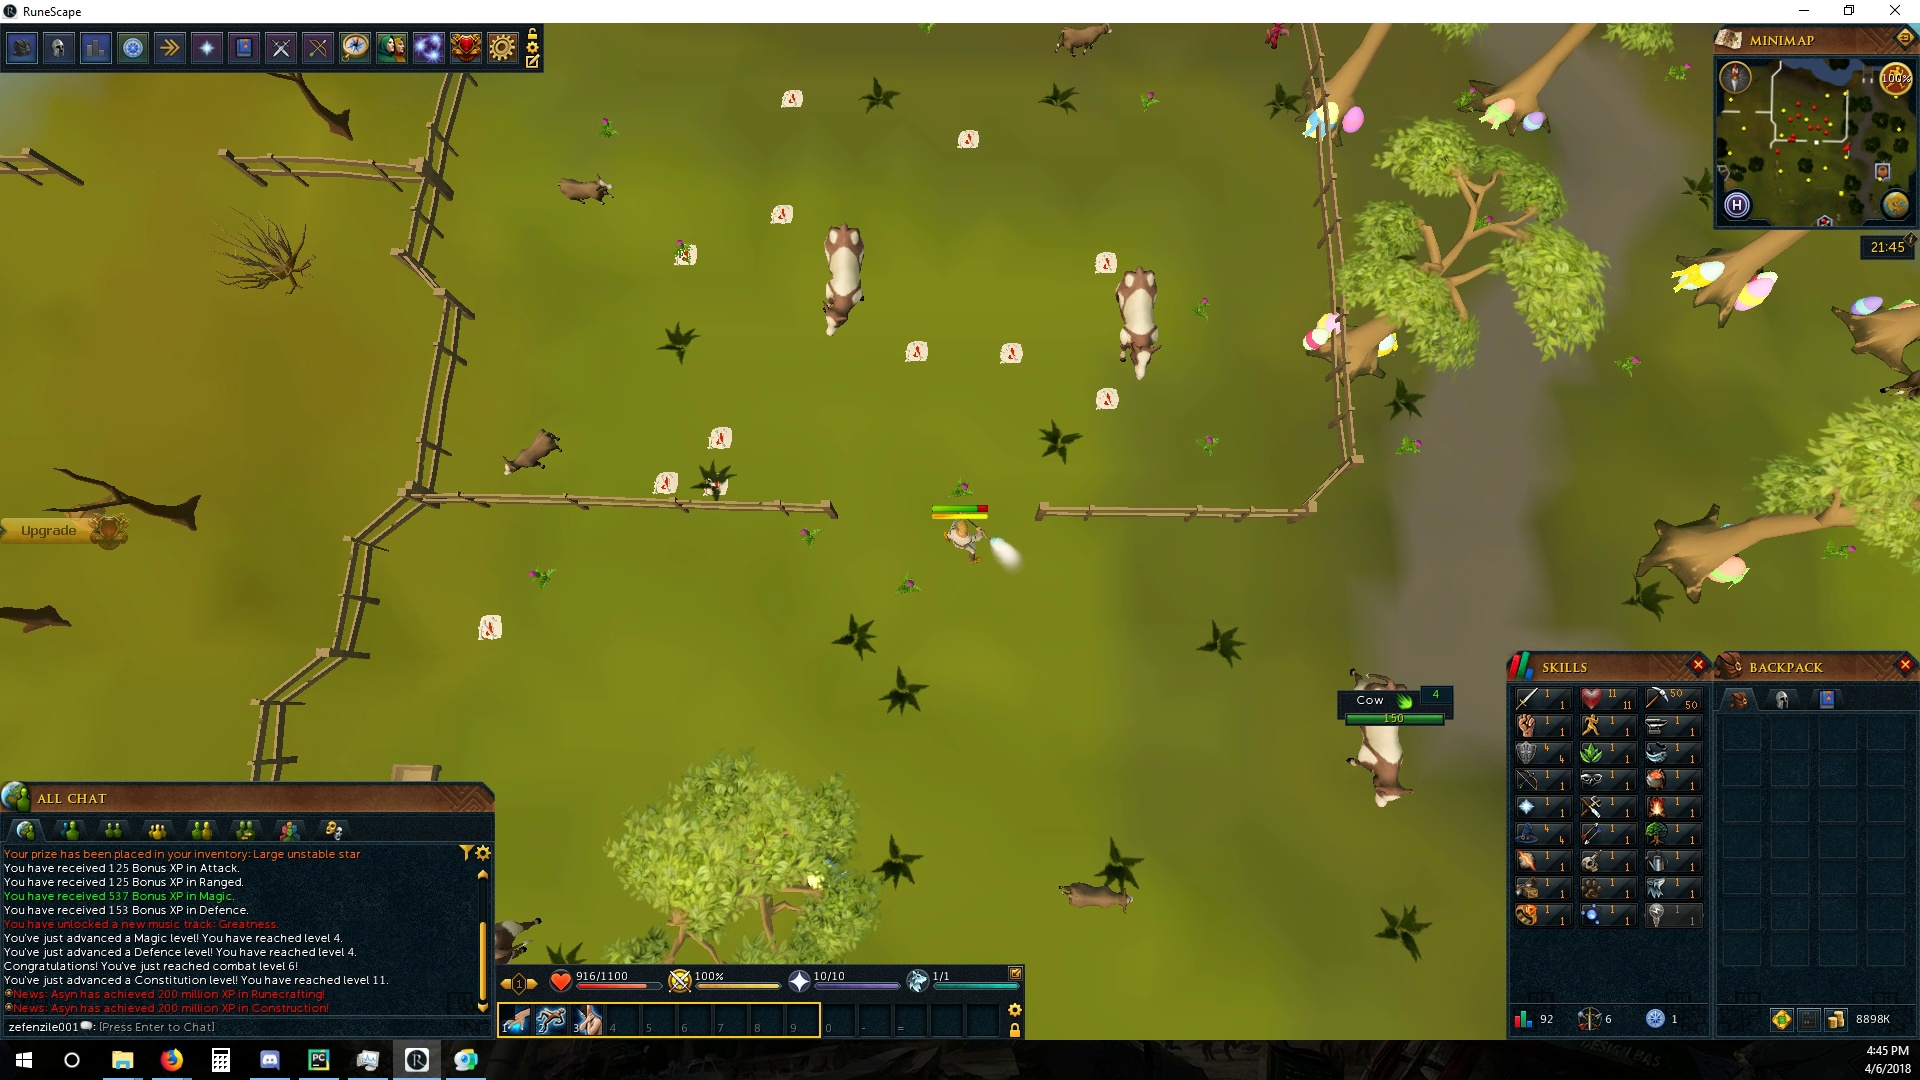calf: (497, 426, 566, 476), (1058, 878, 1133, 919), (1052, 24, 1116, 63), (555, 171, 616, 208)
cow: (1340, 666, 1418, 814), (811, 222, 874, 338), (1110, 262, 1164, 381)
cow_drop: (1091, 386, 1124, 417), (647, 468, 680, 497), (702, 469, 732, 498), (702, 423, 735, 448), (475, 615, 506, 640), (953, 127, 985, 150), (899, 339, 931, 363), (1091, 253, 1124, 276), (669, 245, 702, 266), (996, 339, 1023, 364), (769, 204, 796, 228), (775, 87, 806, 107)
